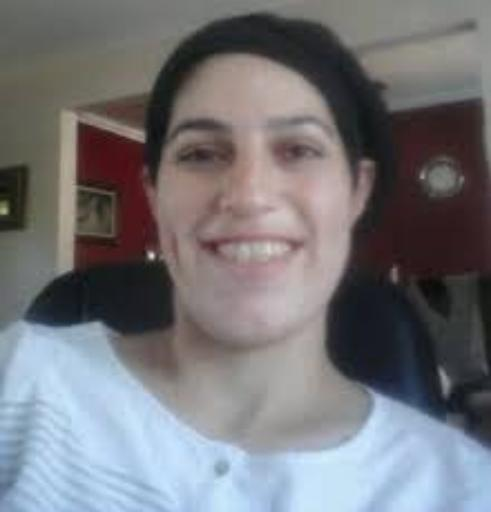left_eye: (275, 143, 325, 165)
left_lip_corner: (288, 233, 315, 254)
right_eye: (181, 148, 227, 170)
right_lip_corner: (191, 234, 217, 256)
